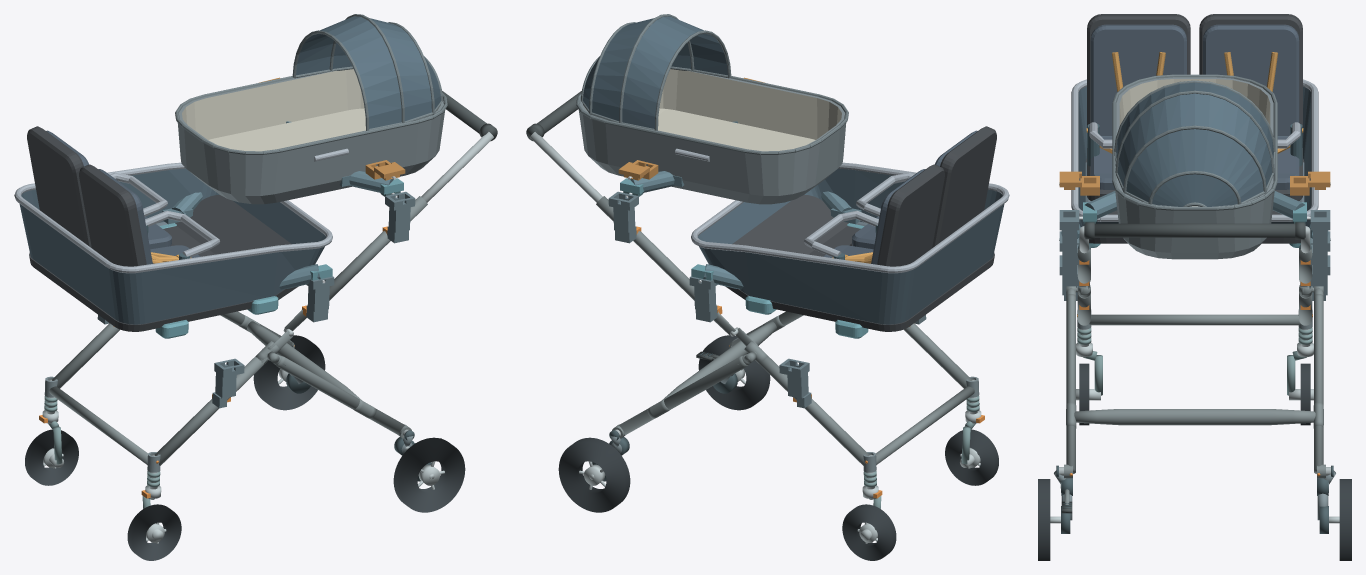
File: D31_w650_state1_wheel_S.glb
The picture shows the model from 3 angles, left to right: view 1: azimuth 30°, elevation 25°; view 2: azimuth 150°, elevation 25°; view 3: azimuth 270°, elevation 25°; orthographic projection. The views are drawn at different scales.
Visible parts, largest first — view 1: D31_Lower, D31_Upper, RL_tire.008, RR_tire.008, FL_tire.008, FR_tire.008, V46_rear_leg_-1.009, main_lower_-1.009, D31_Lower_Mount_M, front_fixed_round_tube.008, main_upper_-1.009, V46_rearbar.009 (+8 smaller); view 2: D31_Lower, D31_Upper, RR_tire.008, FR_tire.008, RL_tire.008, FL_tire.008, V46_rear_leg_1.009, main_lower_1.009, D31_Lower_Mount_M, front_fixed_round_tube.008, main_upper_1.009, V46_rearbar.009 (+8 smaller); view 3: D31_Upper, D31_Lower, V46_rearbar.009, round_handle.008, front_fixed_round_tube.008, V46_rear_leg_1.009, V46_rear_leg_-1.009, D31_Upper_Mount_H, RL_tire.008, RR_tire.008, Universal_Cabin_Receiver_H_1, Universal_Cabin_Receiver_H_-1 (+8 smaller).
Boxes of the visible parts, bbox=[...] form: D31_Lower: bbox=[14, 126, 332, 338]; D31_Upper: bbox=[175, 14, 447, 204]; RL_tire.008: bbox=[393, 437, 465, 512]; RR_tire.008: bbox=[253, 335, 325, 410]; FL_tire.008: bbox=[127, 504, 181, 560]; FR_tire.008: bbox=[25, 429, 78, 485]; V46_rear_leg_-1.009: bbox=[276, 356, 404, 435]; main_lower_-1.009: bbox=[154, 356, 267, 465]; D31_Lower_Mount_M: bbox=[162, 192, 332, 289]; front_fixed_round_tube.008: bbox=[49, 386, 147, 464]; main_upper_-1.009: bbox=[329, 196, 427, 300]; V46_rearbar.009: bbox=[247, 321, 361, 400]; D31_Lower: bbox=[691, 126, 1009, 338]; D31_Upper: bbox=[576, 14, 848, 204]; RR_tire.008: bbox=[558, 437, 630, 512]; FR_tire.008: bbox=[842, 504, 896, 560]; RL_tire.008: bbox=[698, 335, 770, 410]; FL_tire.008: bbox=[945, 429, 998, 485]; V46_rear_leg_1.009: bbox=[619, 356, 747, 435]; main_lower_1.009: bbox=[756, 356, 869, 465]; D31_Lower_Mount_M: bbox=[691, 191, 861, 289]; front_fixed_round_tube.008: bbox=[876, 386, 974, 464]; main_upper_1.009: bbox=[596, 196, 694, 300]; V46_rearbar.009: bbox=[662, 321, 776, 400]; D31_Upper: bbox=[1112, 74, 1277, 259]; D31_Lower: bbox=[1071, 14, 1318, 247]; V46_rearbar.009: bbox=[1074, 409, 1315, 425]; round_handle.008: bbox=[1084, 223, 1305, 237]; front_fixed_round_tube.008: bbox=[1089, 314, 1300, 325]; V46_rear_leg_1.009: bbox=[1314, 294, 1323, 473]; V46_rear_leg_-1.009: bbox=[1066, 294, 1075, 473]; D31_Upper_Mount_H: bbox=[1079, 191, 1310, 223]; RL_tire.008: bbox=[1038, 479, 1050, 560]; RR_tire.008: bbox=[1339, 479, 1351, 560]; Universal_Cabin_Receiver_H_1: bbox=[1310, 210, 1330, 264]; Universal_Cabin_Receiver_H_-1: bbox=[1059, 210, 1079, 264].
Bounding box in the file's own units: 1.17 × 1.27 × 0.766.
